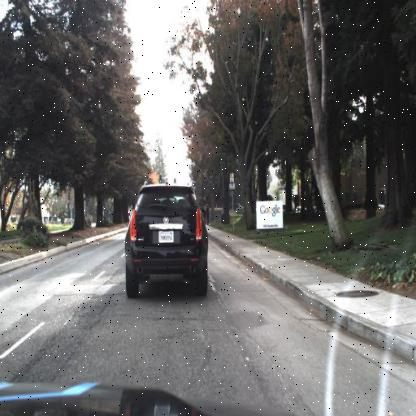car: (120, 183, 211, 300)
trafficLight-Green: (158, 173, 163, 184), (172, 176, 176, 184)
